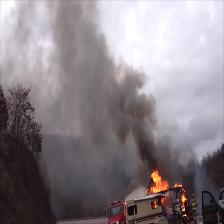fire: (149, 171, 186, 192)
smoke: (48, 1, 163, 169)
